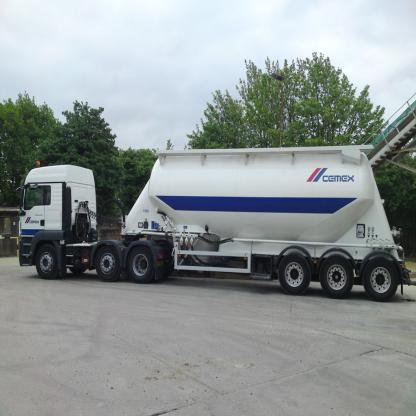Truck: (14, 143, 412, 301)
